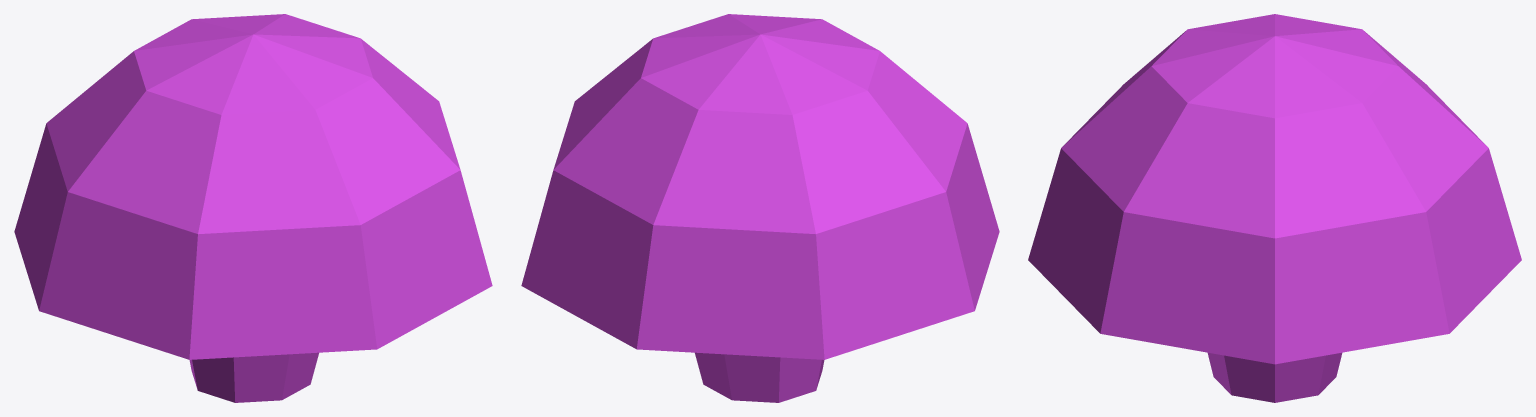
File: mushroom_02.fbx
The picture shows the model from 3 angles, left to right: view 1: azimuth 30°, elevation 25°; view 2: azimuth 150°, elevation 25°; view 3: azimuth 270°, elevation 25°; orthographic projection.
Parts seen in each view (by area): view 1: pSphere2; view 2: pSphere2; view 3: pSphere2.
Part boxes in pixels (<box>): pSphere2: <box>14,14,492,402</box>; pSphere2: <box>521,14,999,402</box>; pSphere2: <box>1028,14,1521,402</box>.
Size of the model in its own units: 2 by 1.53 by 2.
